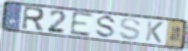2: (47, 10, 69, 35)
E: (69, 10, 95, 38)
K: (145, 19, 165, 45)
R: (20, 6, 46, 33)
S: (118, 17, 143, 42), (94, 15, 119, 39)
